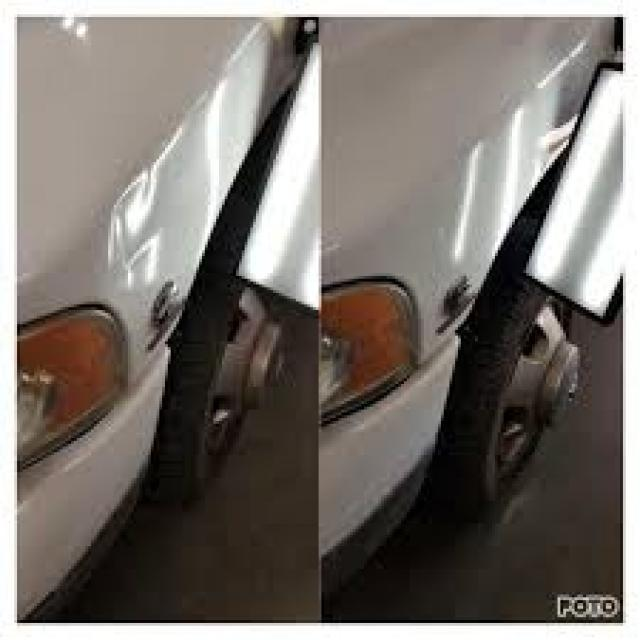dent-or-scratch: (106, 117, 216, 293)
